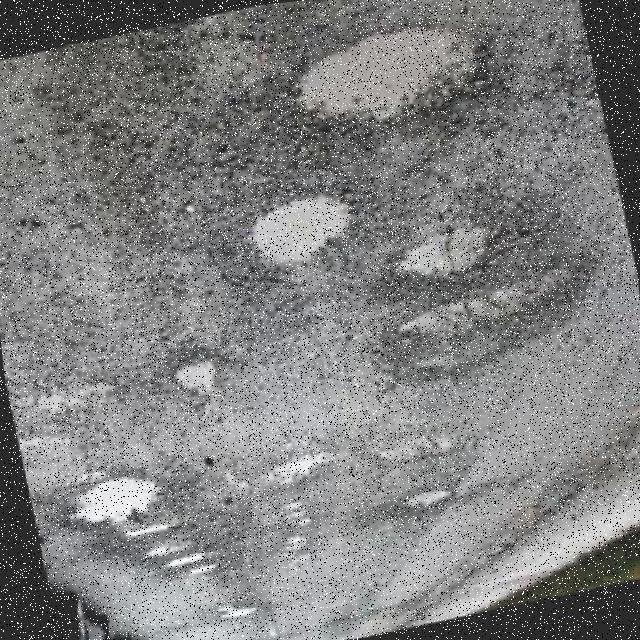Pothole: (298, 23, 475, 118), (397, 274, 565, 339), (250, 190, 350, 265), (396, 224, 490, 274), (74, 478, 154, 521), (173, 353, 215, 393)
